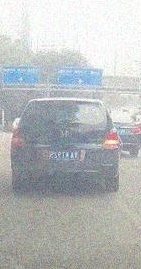L_light: (11, 128, 26, 145)
R_light: (103, 128, 119, 148)
T_light: (59, 101, 72, 104)
day-right: (11, 97, 120, 190)
